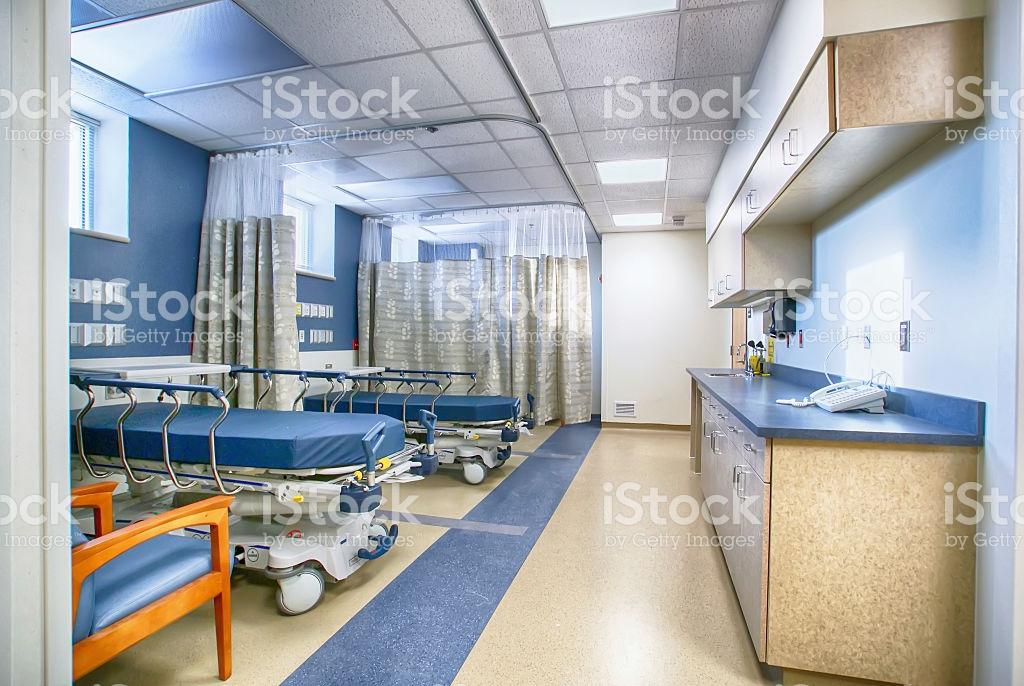hospital bed: (82, 360, 441, 468), (284, 365, 536, 435)
